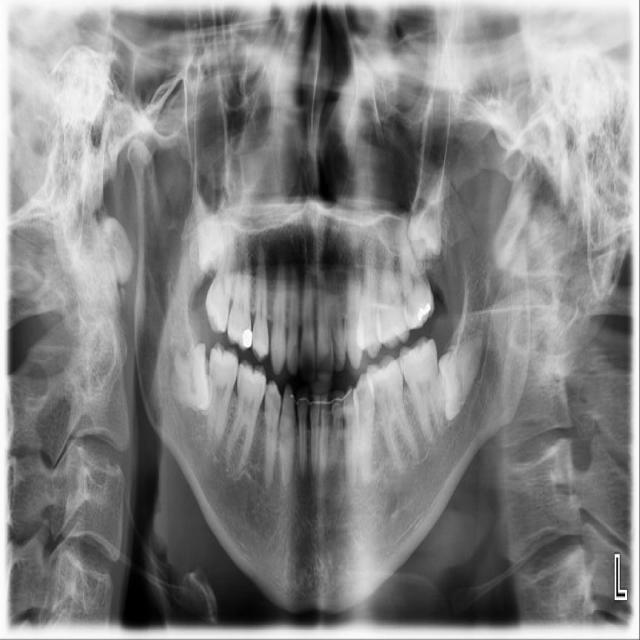Filling: (415, 304, 432, 325), (241, 328, 254, 348)
impacted tooth: (439, 329, 484, 418), (409, 163, 448, 260), (169, 344, 209, 409), (193, 197, 224, 271)
